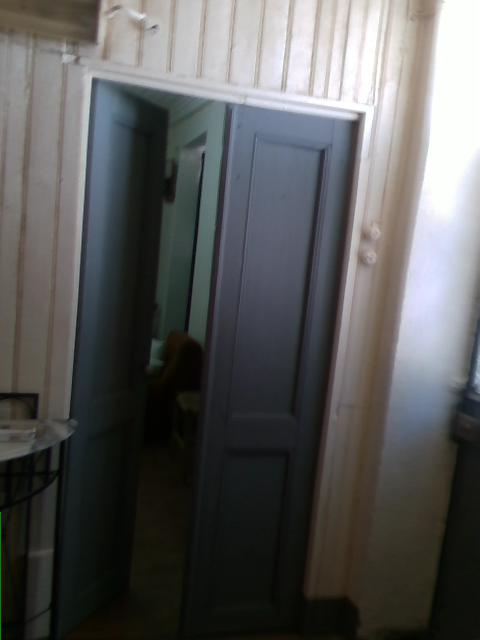semi_door: (50, 57, 374, 634)
